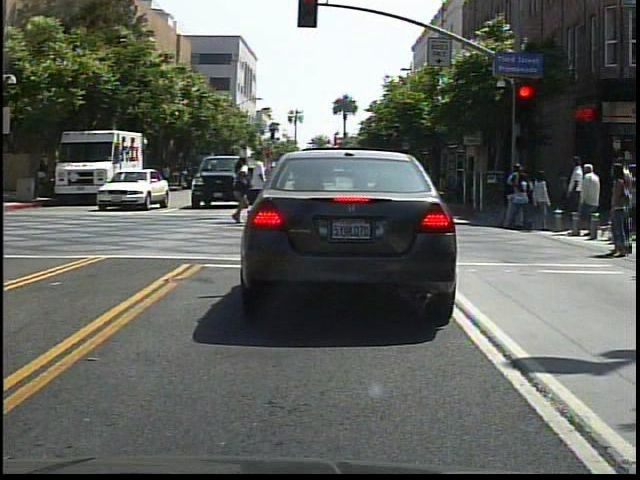person: (569, 159, 608, 252), (346, 157, 379, 220), (230, 150, 254, 228)
